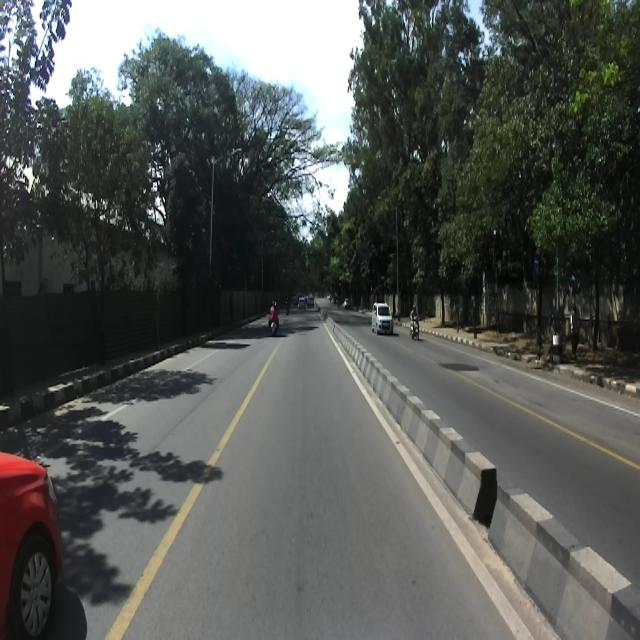car: (0, 451, 62, 639), (370, 299, 394, 334)
scooter: (409, 315, 421, 341)
